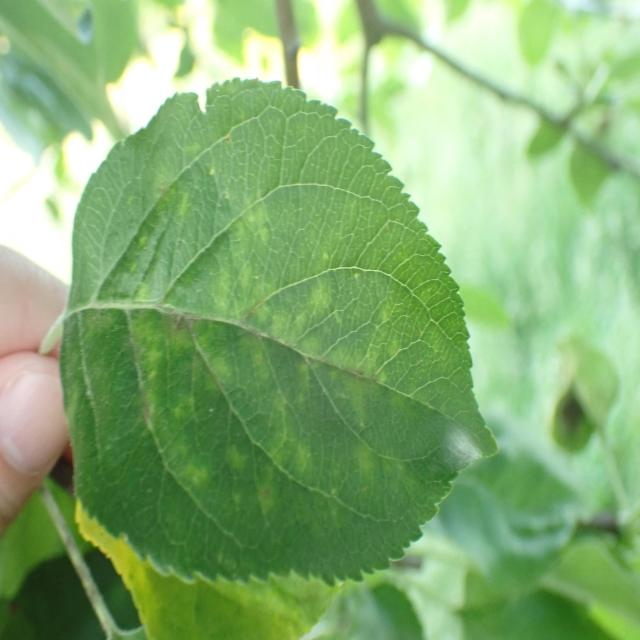scab: (82, 157, 439, 546)
